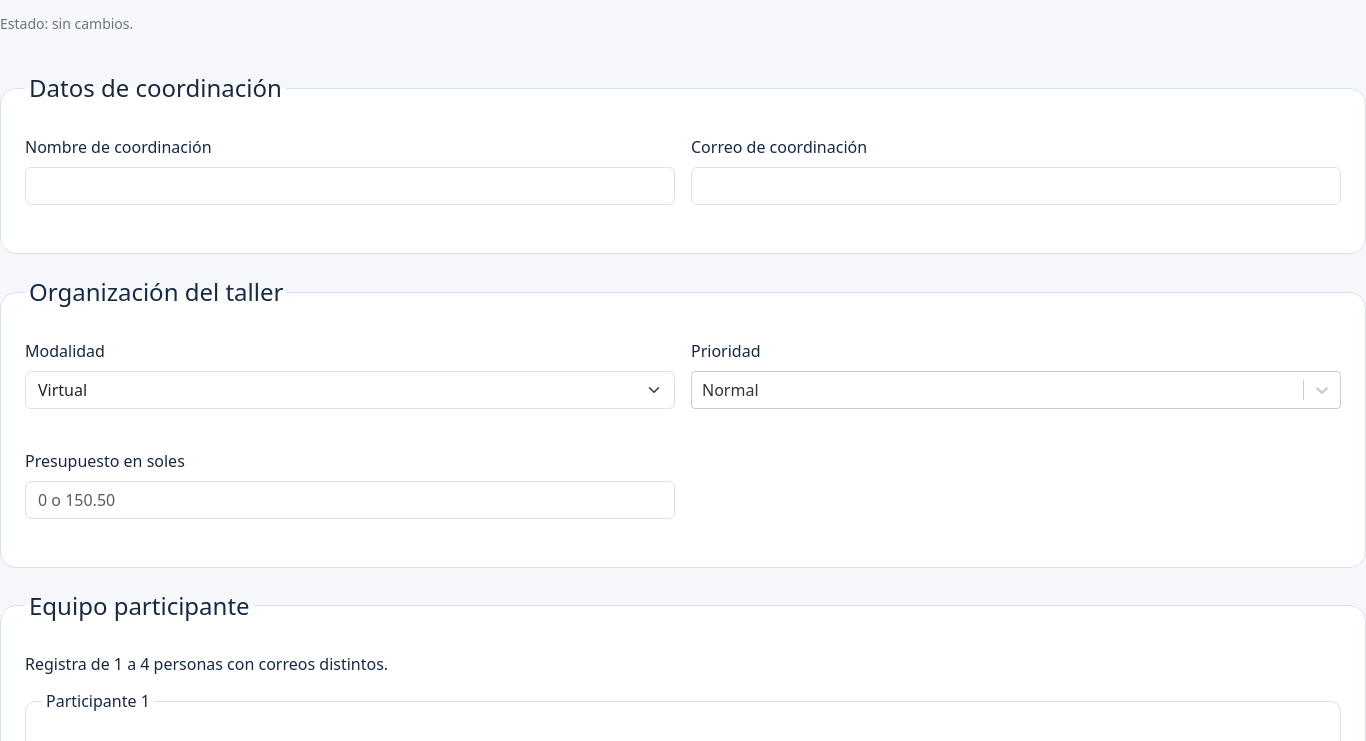
Test: RegistrationForm › resets values and dynamic rows
Type "Ana Torres" into the field labelled "Nombre de coordinación" at (350, 186), box [25,167,675,205]
Type "ana@example.test" into the field labelled "Correo de coordinación" at (1016, 186), box [691,167,1341,205]
(page scrolled)
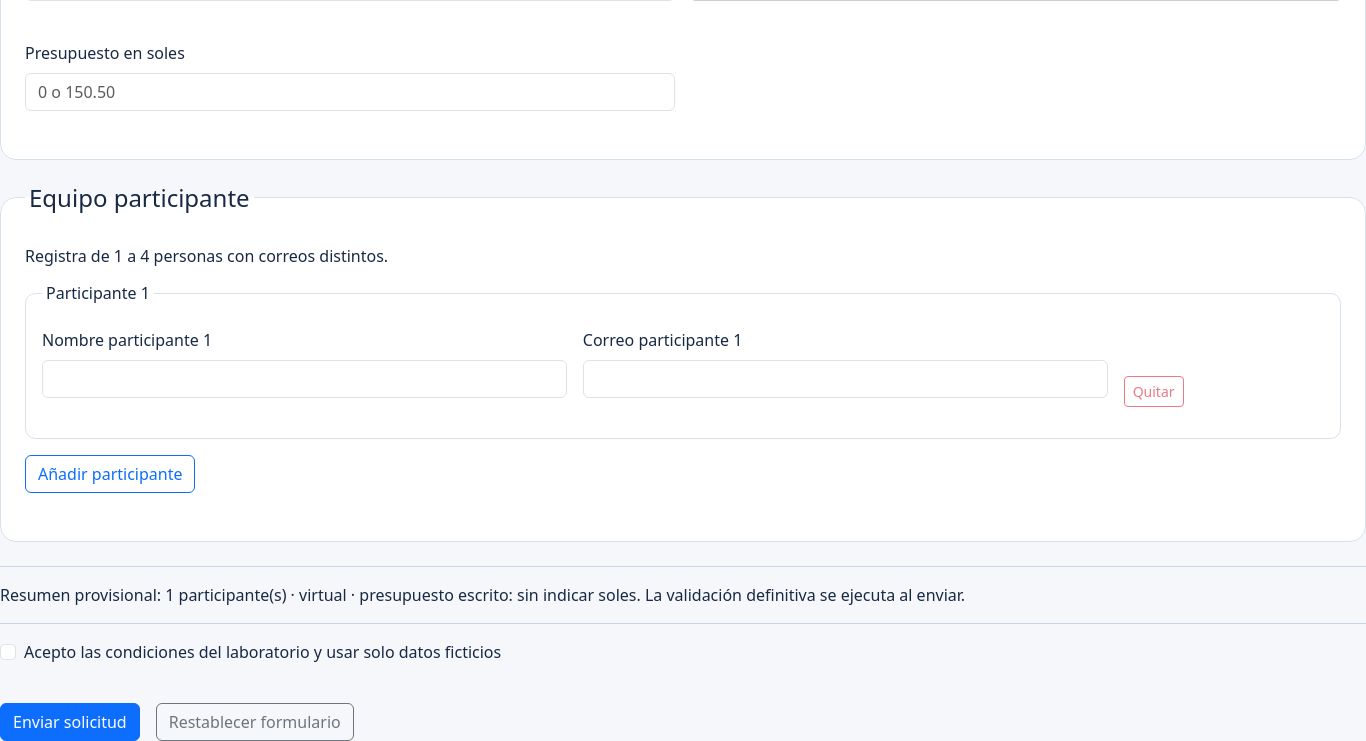
Type "Luis Pérez" into the field labelled "Nombre participante 1" at (304, 378), box [42,360,567,398]
Type "luis@example.test" into the field labelled "Correo participante 1" at (845, 378), box [583,360,1108,398]
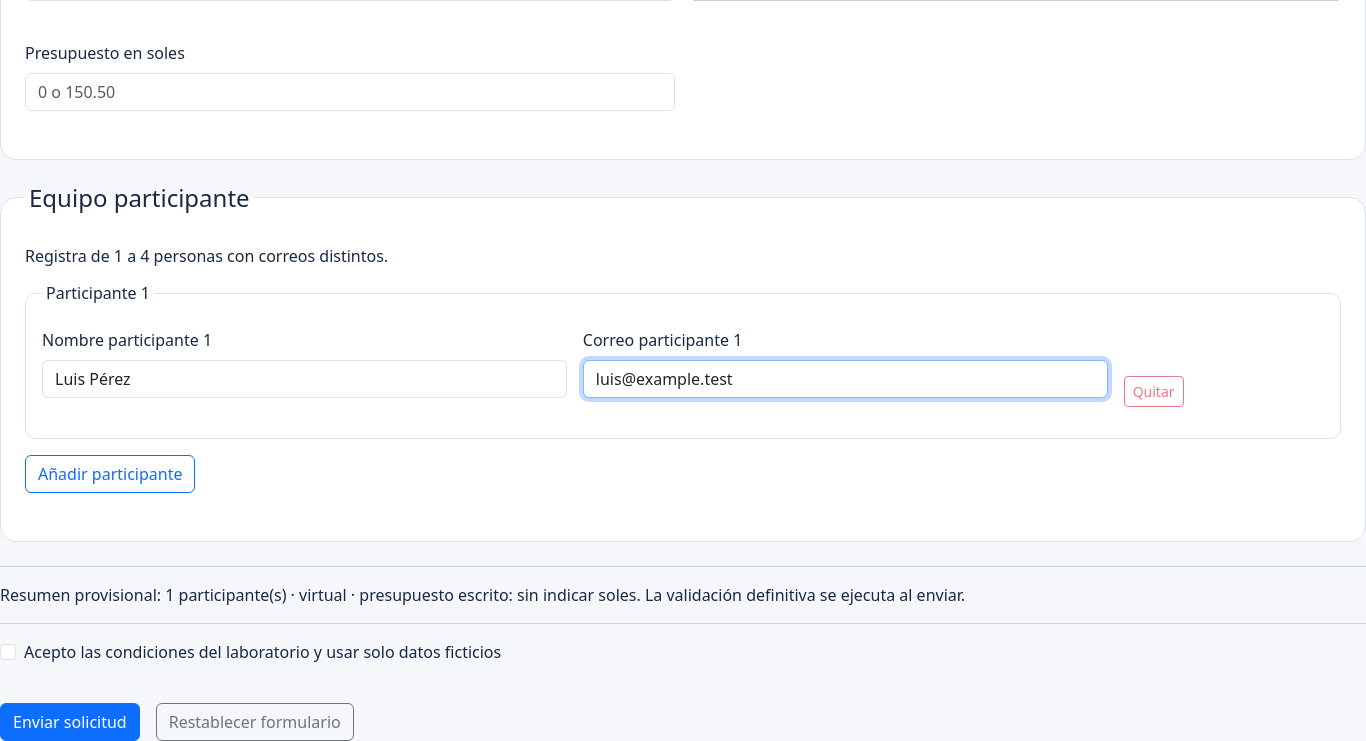
Type "0" into the field labelled "Presupuesto en soles" at (350, 92), box [25,73,675,111]
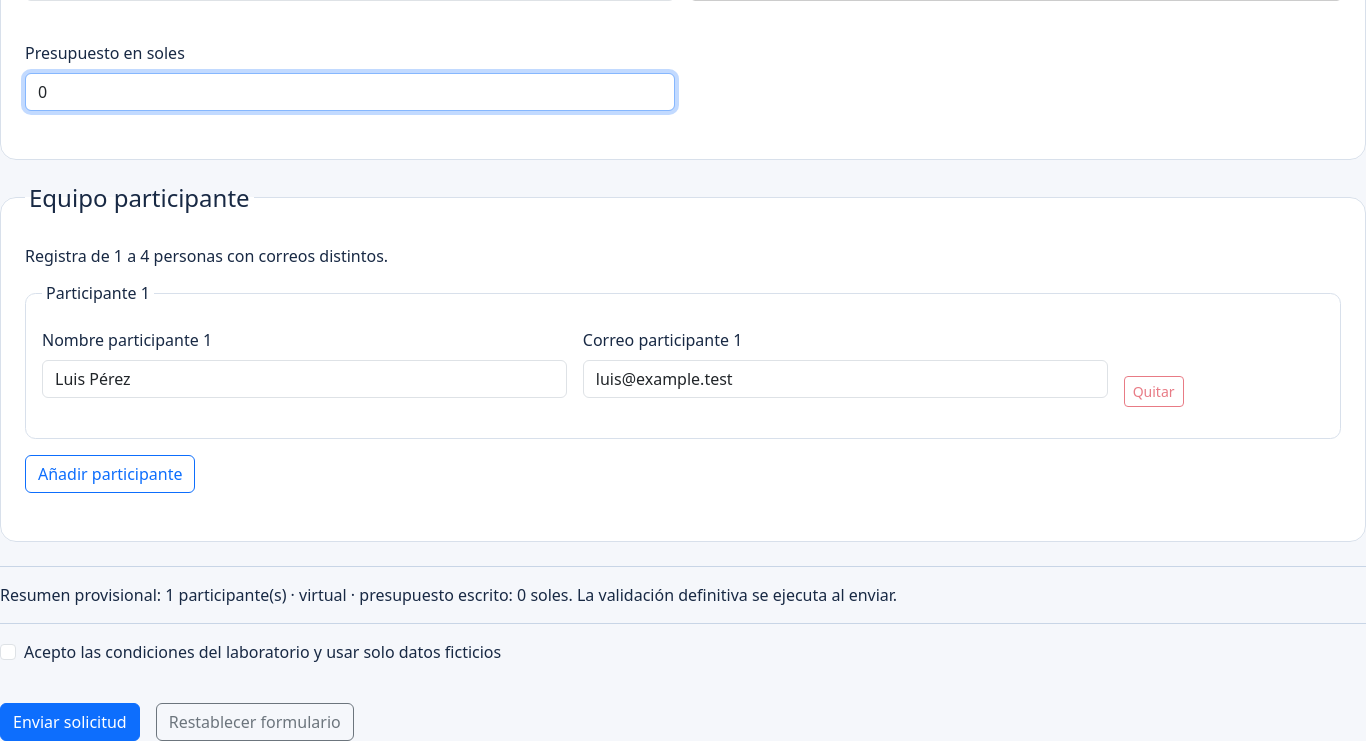
Click the checkbox labelled "Acepto las condiciones" at (8, 652), box [0,644,16,660]
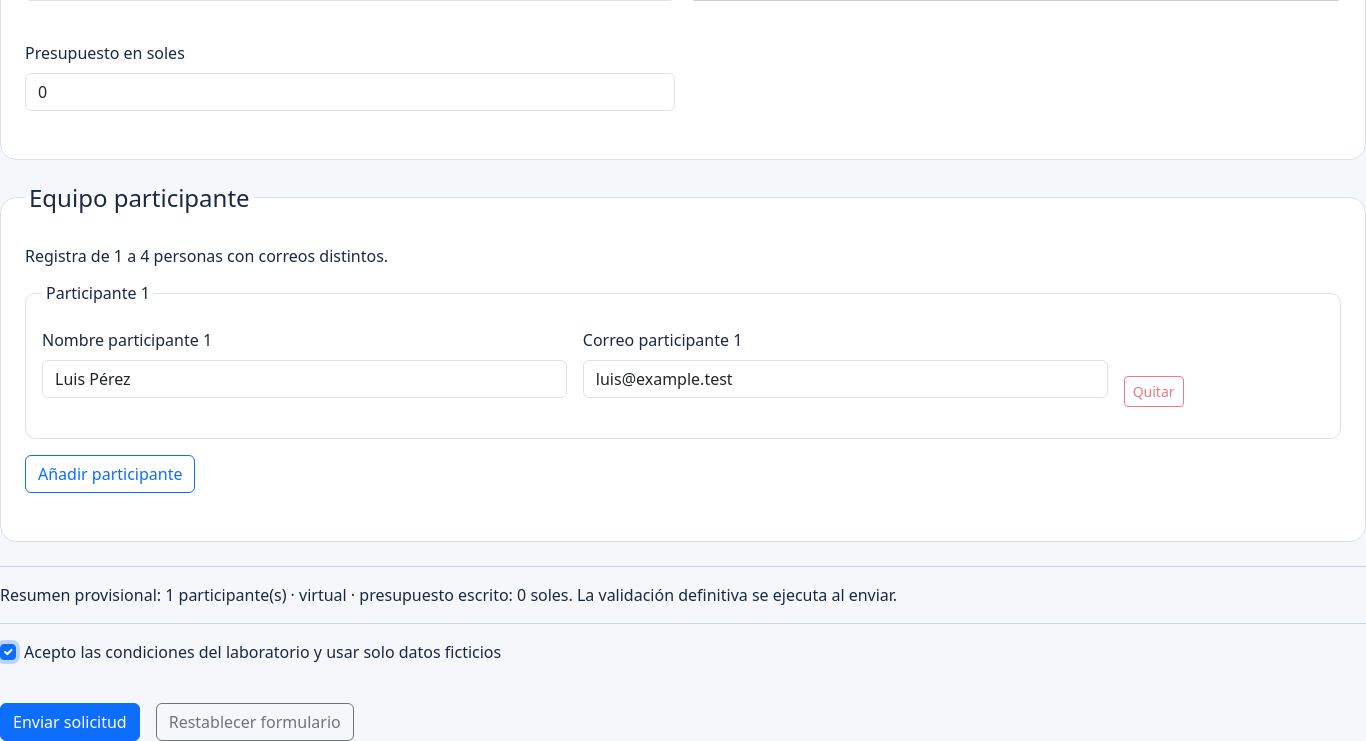
Click the button "Añadir participante" at (110, 474), box [25,454,196,492]
(page scrolled)
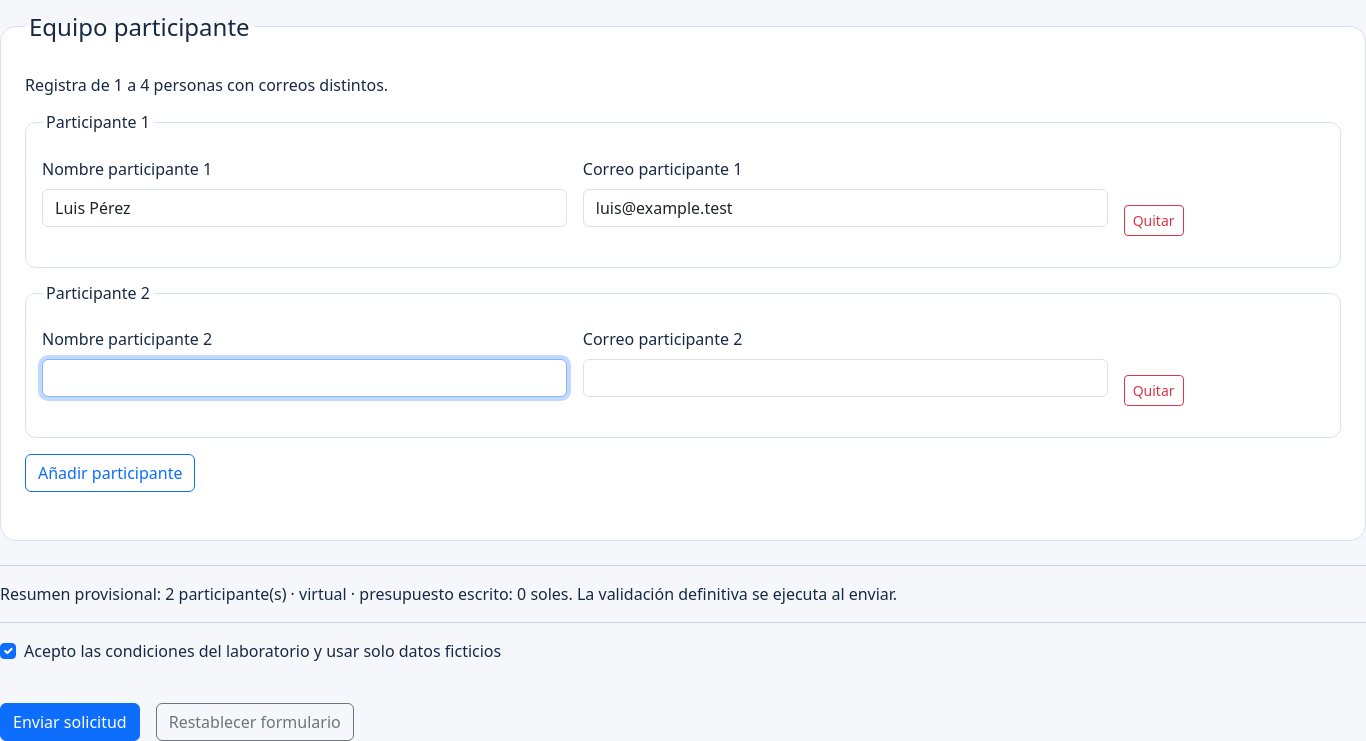
Click the button "Restablecer formulario" at (255, 722), box [156,703,354,740]
(page scrolled)
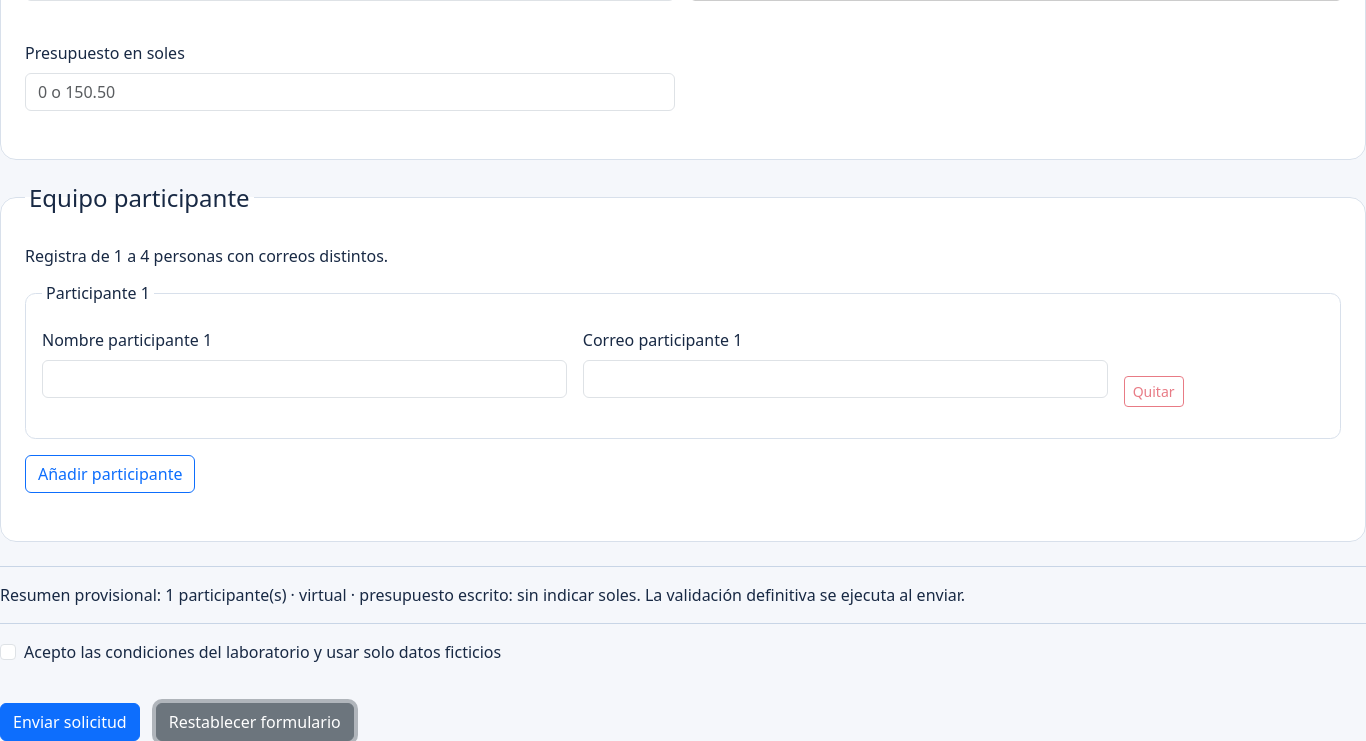
Now the checkbox is not checked, box [0,644,16,660]
Now the label labelled "Nombre participante 2" is gone
